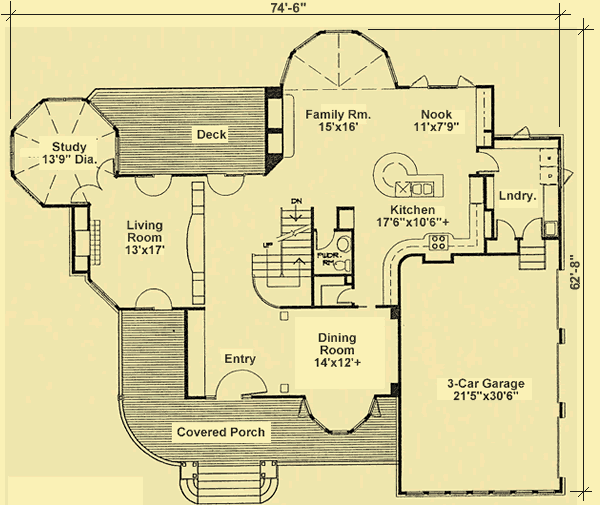door: (69, 157, 117, 202), (213, 366, 268, 399), (131, 173, 174, 199), (134, 285, 173, 311), (474, 149, 504, 175), (314, 226, 337, 250), (495, 216, 516, 241), (333, 287, 354, 304)
kitchen_bar: (371, 148, 448, 203)
large_sink: (331, 256, 352, 272)
stairs: (250, 205, 315, 307), (178, 461, 280, 504), (515, 239, 548, 271)
window: (384, 56, 402, 85), (358, 32, 384, 49), (277, 56, 292, 85), (294, 33, 318, 51), (42, 94, 83, 103), (321, 28, 353, 35)
